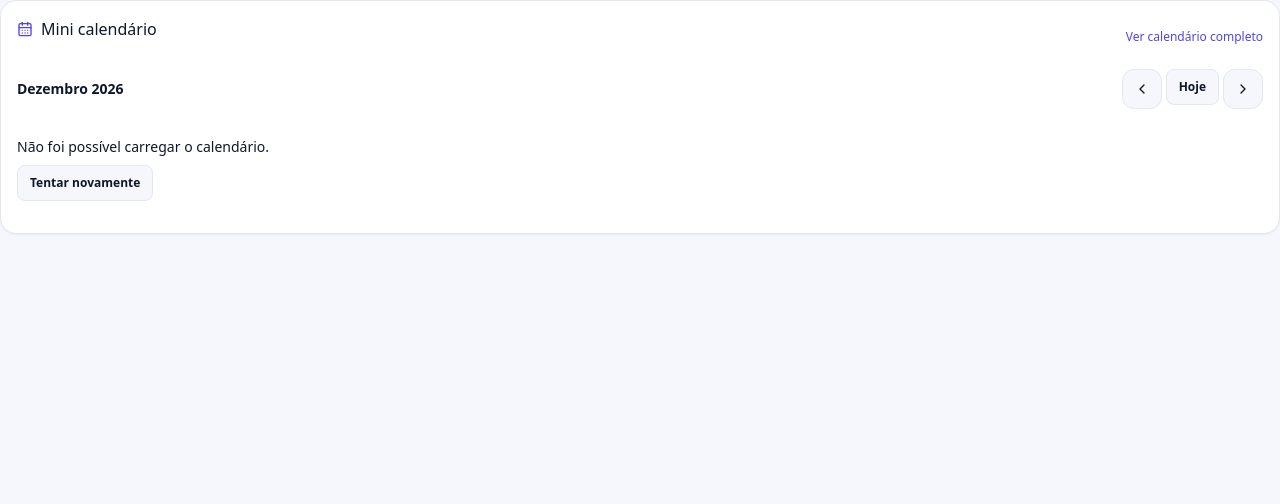
Test case: mini calendário independente do período › trata falha e retry sem inventar sessões e diferencia estado vazio
Expected: the message shows "Não foi possível carregar o calendário", [17,137,269,156]
Click the button "Tentar novamente" at (85, 183), box [17,165,153,201]
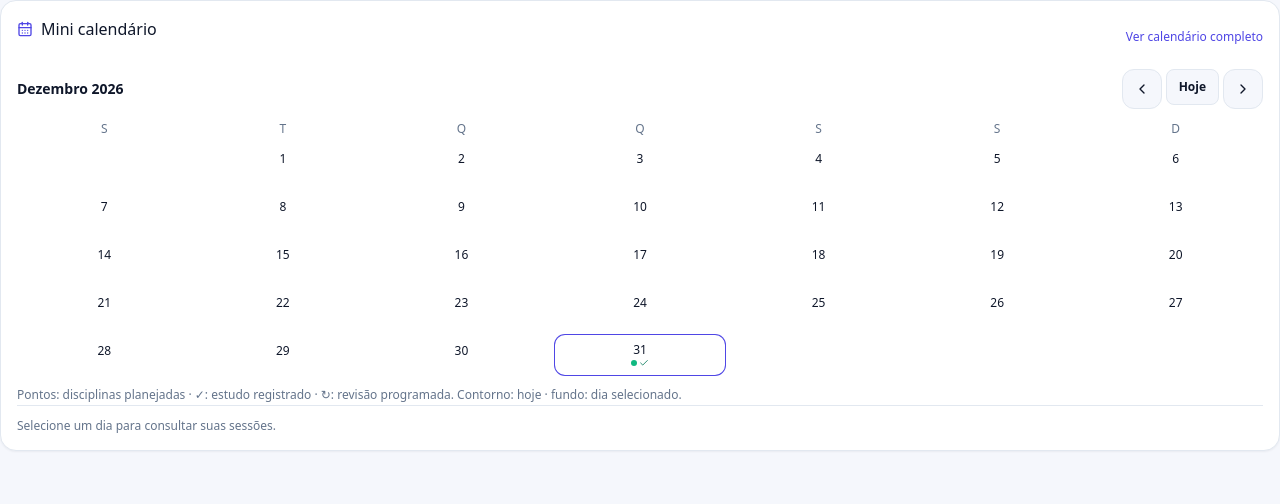
Expected: the button named "31/12/2026, hoje" is shown, [553,333,727,377]
Click the button named "30/12/2026" at (461, 355), box [374,333,549,377]
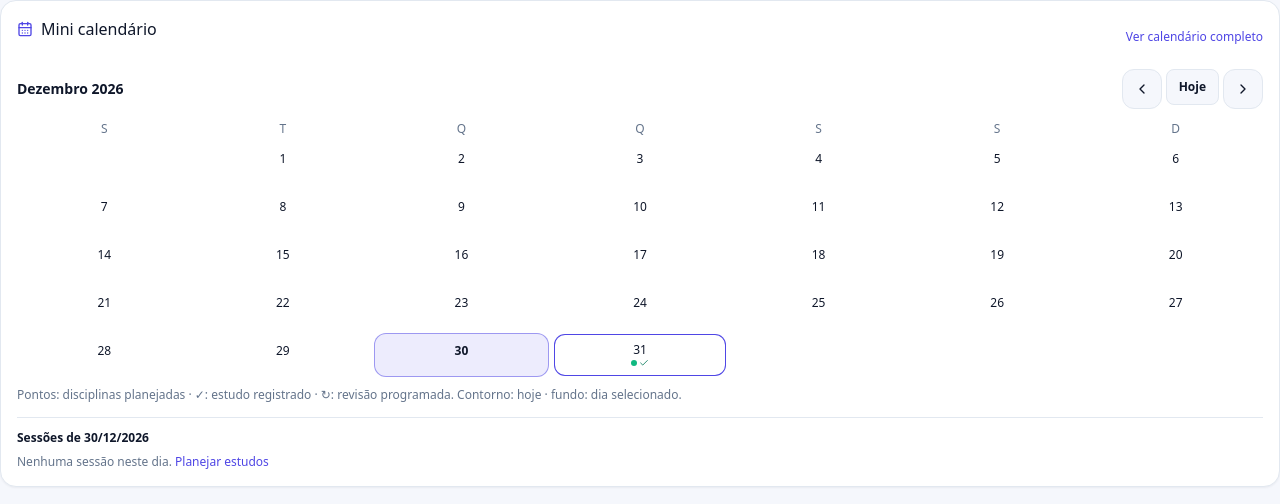
Expected: the text "Nenhuma sessão neste dia. Planejar estudos" is shown, [17,452,269,470]
